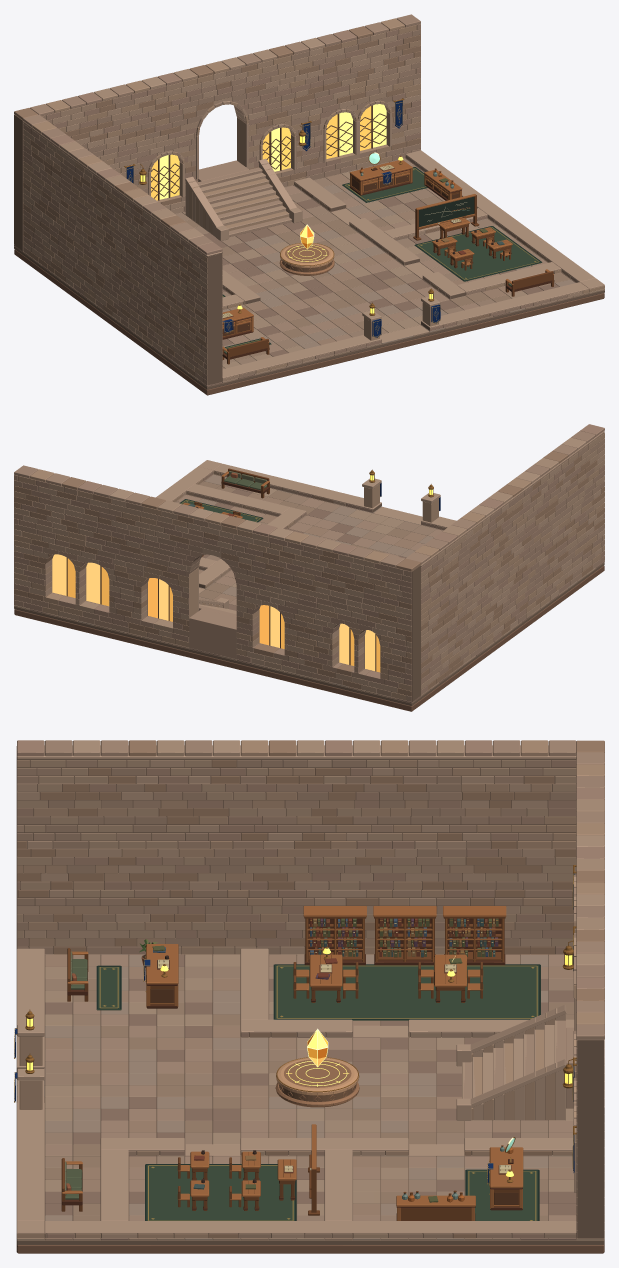
Rendered from academy-first-floor.glb.
The picture shows the model from 3 angles, top to bottom: view 1: azimuth 30°, elevation 25°; view 2: azimuth 150°, elevation 25°; view 3: azimuth 270°, elevation 25°; orthographic projection. The views are drawn at different scales.
Parts seen in each view (by area): view 1: Architecture, Fixtures, LowWalls, WindowGlass, Magic; view 2: Architecture, LowWalls, WindowGlass, Fixtures; view 3: Architecture, Fixtures, LowWalls, Magic.
Boxes of the visible parts, x1=… form: Architecture: x1=14, y1=14, x2=604, y2=395; Fixtures: x1=124, y1=98, x2=554, y2=364; LowWalls: x1=222, y1=150, x2=604, y2=381; WindowGlass: x1=151, y1=104, x2=386, y2=200; Magic: x1=279, y1=152, x2=380, y2=275; Architecture: x1=14, y1=424, x2=604, y2=711; LowWalls: x1=156, y1=460, x2=456, y2=588; WindowGlass: x1=52, y1=554, x2=380, y2=672; Fixtures: x1=179, y1=468, x2=440, y2=556; Architecture: x1=16, y1=740, x2=604, y2=1253; Fixtures: x1=14, y1=865, x2=576, y2=1220; LowWalls: x1=16, y1=948, x2=576, y2=1238; Magic: x1=275, y1=955, x2=515, y2=1152.
Size of the model in its own units: 25.01 by 8.61 by 21.11.
